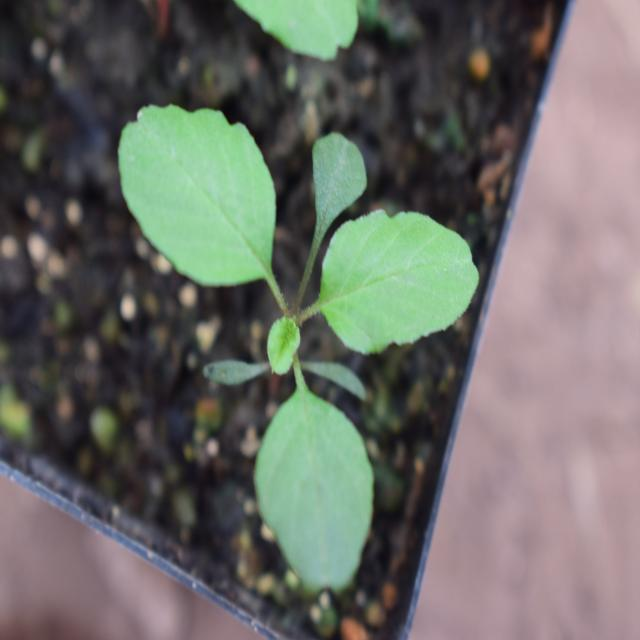pigweed: (114, 99, 488, 595)
